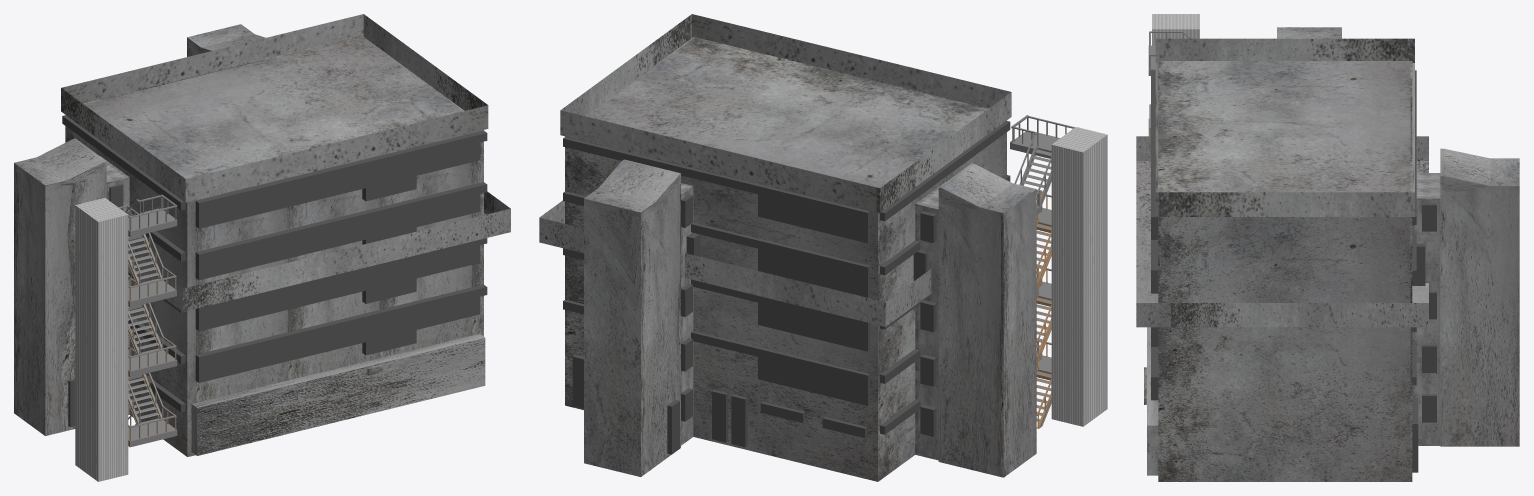
File: IndA.glb
The picture shows the model from 3 angles, left to right: view 1: azimuth 30°, elevation 25°; view 2: azimuth 150°, elevation 25°; view 3: azimuth 270°, elevation 25°; orthographic projection. The views are drawn at different scales.
Visible parts, largest first — view 1: Main building part, Roof, Left concrete stairwell, Ground floor cut in, Left metal stairwell, Walkway, First floor windows 1, Third floor windows 1, Fourth floor windows 1, Second floor windows 1, Main stairs, Fourth floor windows 3 (+10 smaller); view 2: Main building part, Left concrete stairwell, Rear stairwell, Roof, Left metal stairwell, Walkway, Left stairwell back section, First floor window 1, Third floor window 1, Fourth floor window 1, Main stairs, Second floor window 1 (+12 smaller); view 3: Main building part, Rear stairwell, Roof, Walkway, Rear stairwell back section, Ground floor cut in, Left metal stairwell, Fourth floor windows 1, Left concrete stairwell, Ground L doorway, Walk way opening, Stairwell ground floor windows (+2 smaller).
Boxes of the visible parts, x1,y1,x2,y2 form: Main building part: (65,35,483,456); Roof: (61,14,488,202); Left concrete stairwell: (14,138,106,435); Ground floor cut in: (191,333,485,455); Left metal stairwell: (75,198,128,481); Walkway: (128,191,510,311); First floor windows 1: (195,288,480,382); Third floor windows 1: (195,186,480,280); Fourth floor windows 1: (195,134,480,228); Second floor windows 1: (195,241,480,331); Main stairs: (118,194,177,447); Fourth floor windows 3: (362,156,416,201); Main building part: (565,37,1006,481); Left concrete stairwell: (938,163,1036,477); Rear stairwell: (584,159,680,476); Roof: (560,14,1011,212); Left metal stairwell: (1051,127,1107,426); Walkway: (539,200,931,326); Left stairwell back section: (915,181,946,460); First floor window 1: (758,348,869,405); Third floor window 1: (758,240,869,297); Fourth floor window 1: (758,186,869,243); Main stairs: (1010,115,1074,428); Second floor window 1: (758,296,869,351); Main building part: (1158,61,1412,481); Rear stairwell: (1440,148,1519,446); Roof: (1155,38,1414,216); Walkway: (1136,136,1428,327); Rear stairwell back section: (1412,173,1440,445); Ground floor cut in: (1147,327,1158,475); Left metal stairwell: (1152,14,1199,45); Fourth floor windows 1: (1151,70,1158,239); Left concrete stairwell: (1277,27,1341,38); Ground L doorway: (1412,398,1418,472); Walk way opening: (1412,243,1425,285); Stairwell ground floor windows: (1422,394,1436,422).
Bounding box in the file's own units: 2.89 × 1.91 × 2.28.
7 materials, 3 textured.
